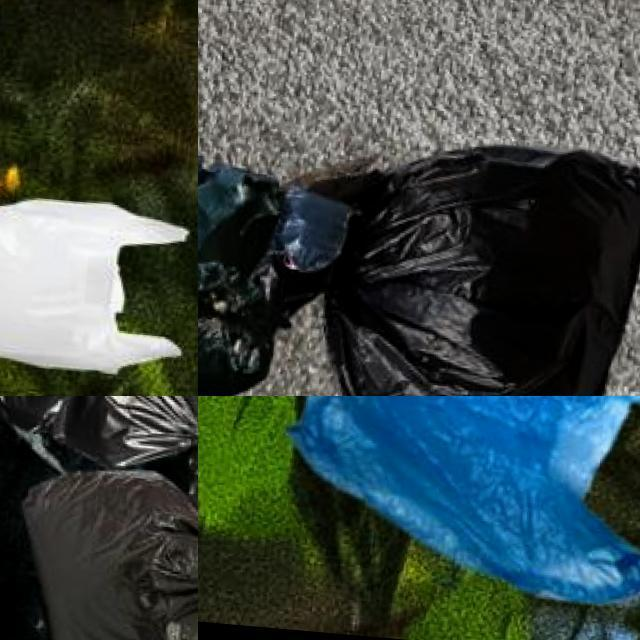waste: (326, 135, 640, 396), (282, 396, 640, 614), (0, 192, 197, 383), (0, 464, 198, 640), (0, 396, 198, 459), (198, 258, 277, 396), (198, 146, 276, 268), (274, 185, 358, 282)
